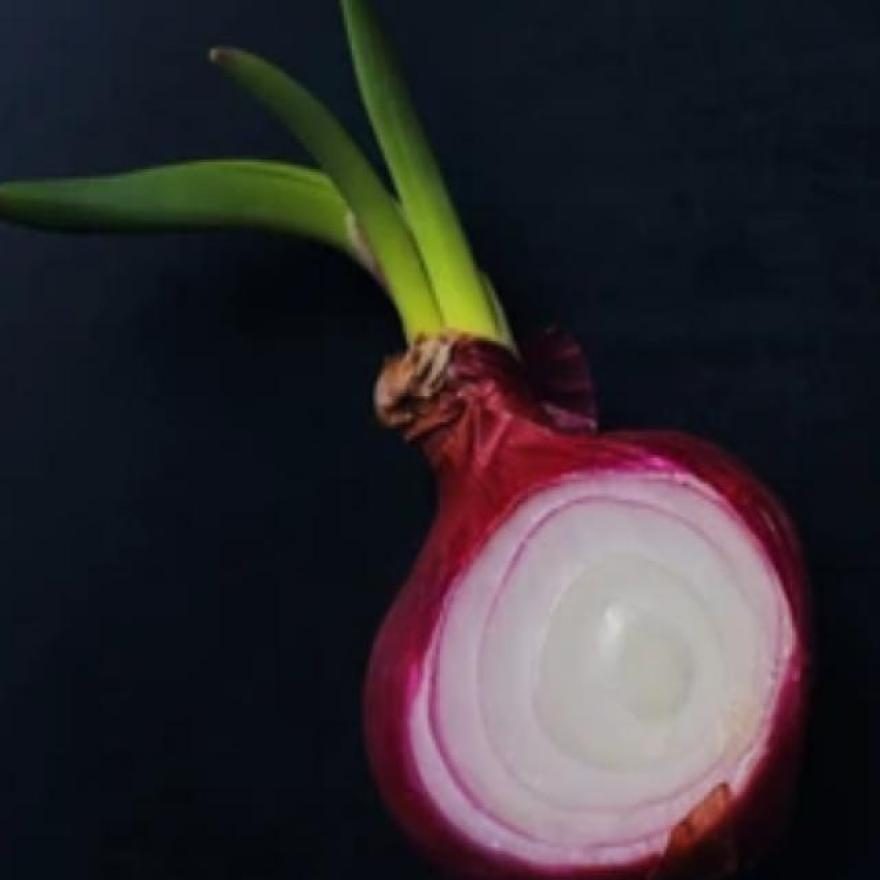Sprouted: (130, 7, 507, 410)
